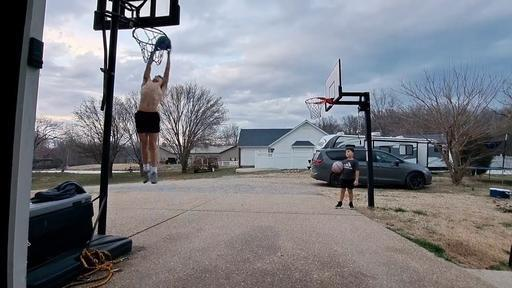ball: (156, 36, 170, 50), (330, 161, 344, 174)
human: (134, 44, 170, 183), (335, 149, 359, 209)
rim: (132, 26, 168, 65), (304, 97, 328, 119)
